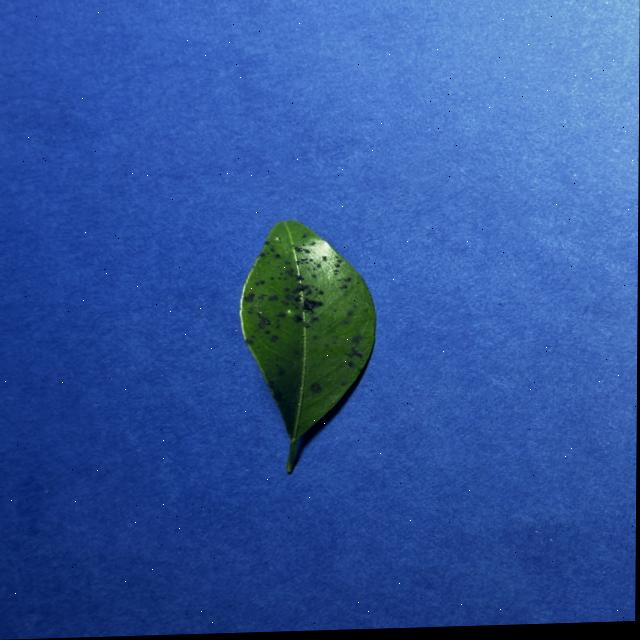sooty_mold: (240, 220, 375, 472)
